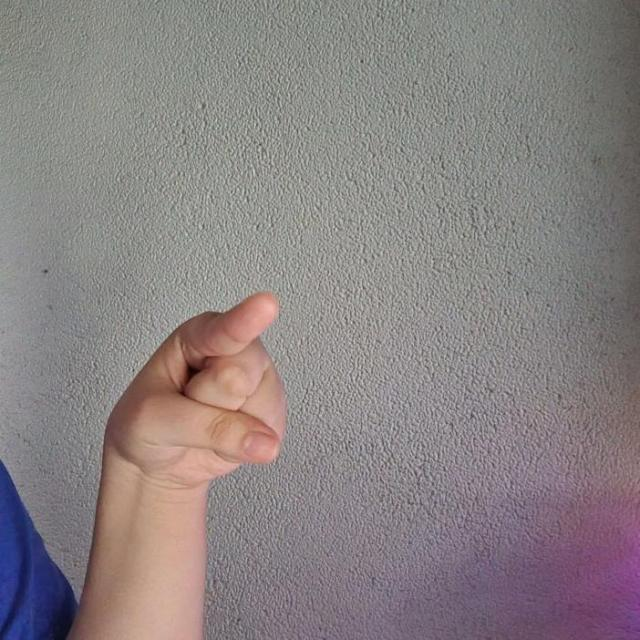Z: (105, 291, 288, 504)
